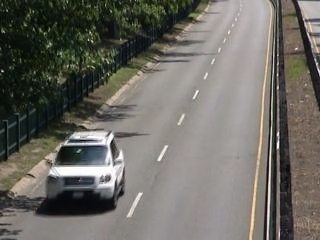car: (40, 131, 136, 214)
